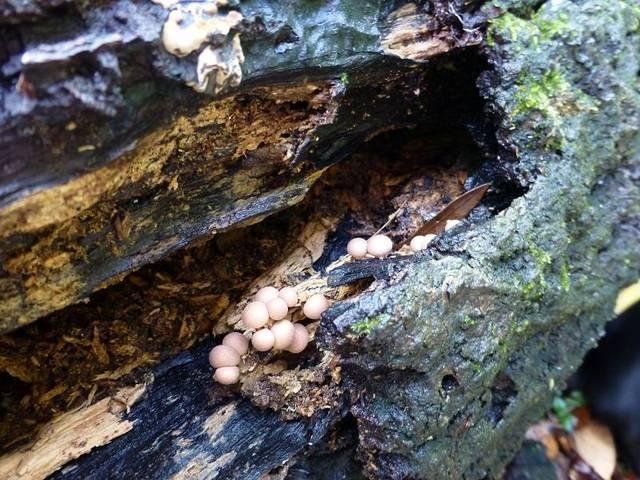Non-edible Mushroom: (206, 179, 490, 386), (207, 282, 329, 385), (241, 300, 269, 329), (207, 344, 240, 368), (302, 292, 329, 319), (366, 233, 393, 258), (250, 326, 274, 352), (212, 365, 240, 385), (345, 236, 367, 259)
